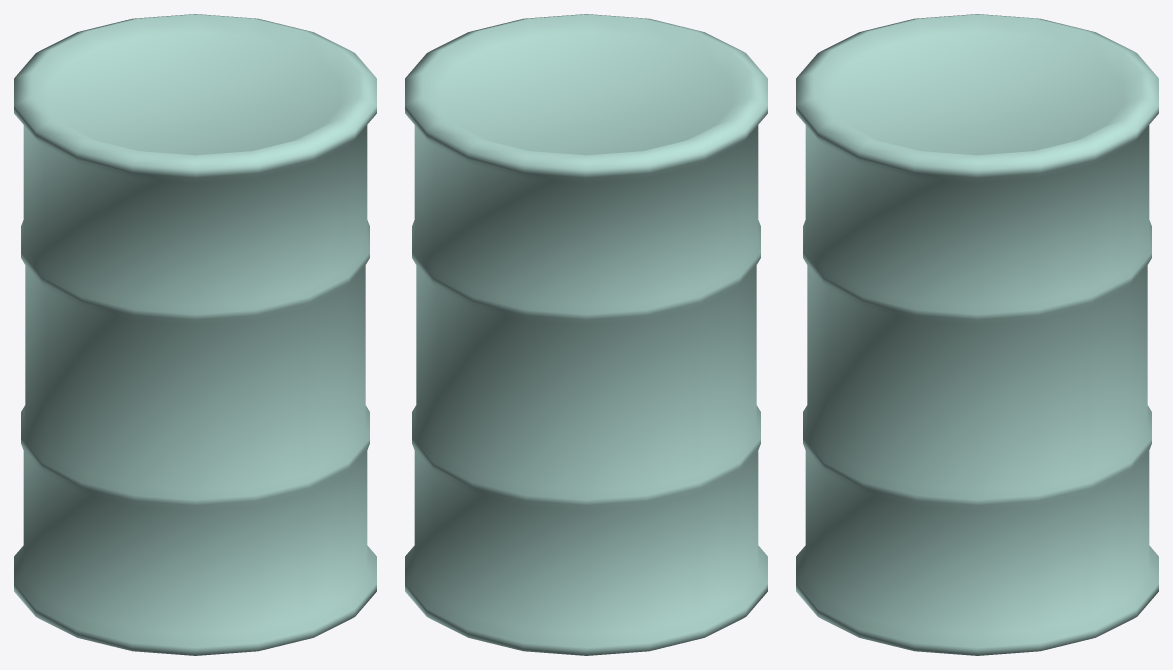
Rendered from MBarrel_TX.fbx.
3 renders of one model, left to right at view 1: azimuth 30°, elevation 25°; view 2: azimuth 150°, elevation 25°; view 3: azimuth 270°, elevation 25°, orthographic.
Visible parts, largest first — view 1: MBarrel; view 2: MBarrel; view 3: MBarrel.
Boxes of the visible parts, bbox=[...] form: MBarrel: bbox=[14, 14, 376, 655]; MBarrel: bbox=[405, 14, 767, 655]; MBarrel: bbox=[796, 14, 1158, 655].
Bounding box in the file's own units: 11.72 × 17.56 × 11.54.
